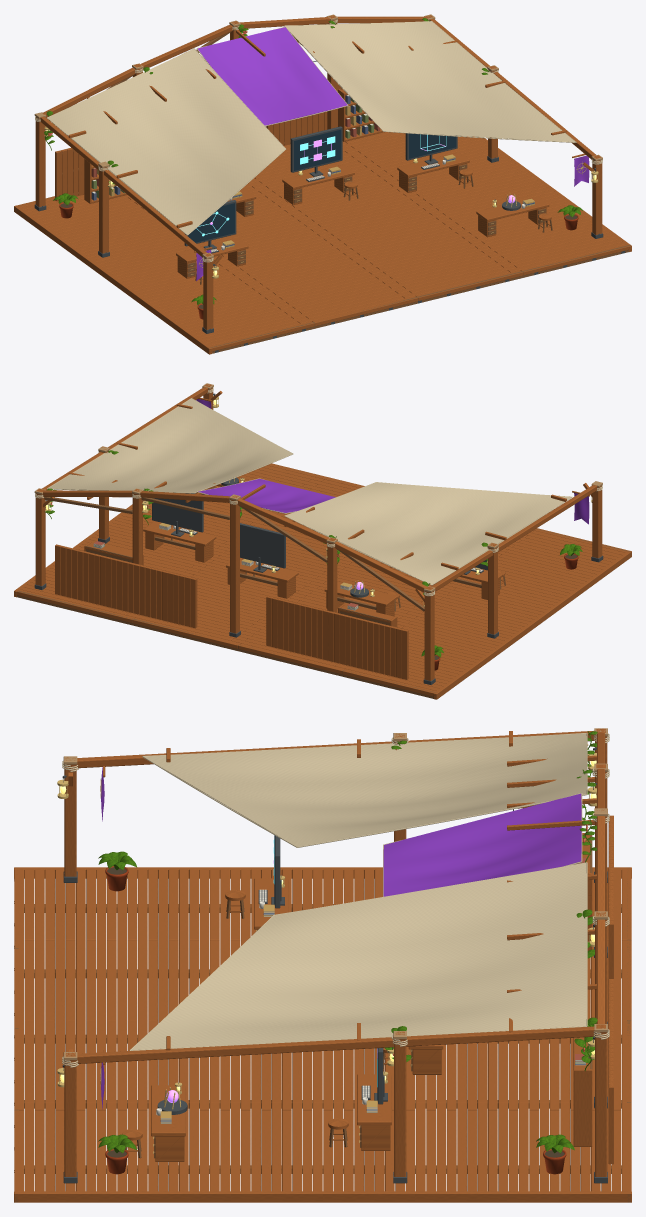
Rendered from workshop-v1-r1-batched.glb.
3 views of the same model, one above another, from view 1: azimuth 30°, elevation 25°; view 2: azimuth 150°, elevation 25°; view 3: azimuth 270°, elevation 25° (orthographic). The views are drawn at different scales.
Visible parts, largest first — view 1: Batched_26_Workshop_PBR_Honey_Timber, Batched_24_Workshop_PBR_Cream_Linen, Batched_23_Workshop_PBR_Violet_Cloth, Batched_14_Workshop_PBR_Honey_Timber, Batched_10_Workshop_PBR_Screen_Glass, Batched_27_Workshop_PBR_Dark_Joinery, Batched_11_Workshop_PBR_Iron, Batched_15_Workshop_PBR_Dark_Joinery, Batched_7_Workshop_PBR_Leaf_Green, Batched_25_Workshop_PBR_Honey_Timber, Batched_4_Workshop_PBR_Violet_Cloth, Batched_20_Workshop_PBR_Book_Ochre (+1 smaller); view 2: Batched_26_Workshop_PBR_Honey_Timber, Batched_24_Workshop_PBR_Cream_Linen, Batched_14_Workshop_PBR_Honey_Timber, Batched_27_Workshop_PBR_Dark_Joinery, Batched_11_Workshop_PBR_Iron, Batched_23_Workshop_PBR_Violet_Cloth, Batched_15_Workshop_PBR_Dark_Joinery, Batched_25_Workshop_PBR_Honey_Timber, Batched_7_Workshop_PBR_Leaf_Green, Batched_28_Workshop_PBR_Cut_Endgrain; view 3: Batched_26_Workshop_PBR_Honey_Timber, Batched_24_Workshop_PBR_Cream_Linen, Batched_23_Workshop_PBR_Violet_Cloth, Batched_14_Workshop_PBR_Honey_Timber, Batched_7_Workshop_PBR_Leaf_Green, Batched_27_Workshop_PBR_Dark_Joinery, Batched_25_Workshop_PBR_Honey_Timber, Batched_11_Workshop_PBR_Iron, Batched_6_Workshop_PBR_Terracotta, Batched_28_Workshop_PBR_Cut_Endgrain, Batched_0_Workshop_PBR_Brass, Batched_5_Workshop_PBR_Cream_Linen (+1 smaller).
Boxes of the visible parts, x1,y1,x2,y2 form: Batched_26_Workshop_PBR_Honey_Timber: (14, 15, 631, 354); Batched_24_Workshop_PBR_Cream_Linen: (47, 21, 576, 235); Batched_23_Workshop_PBR_Violet_Cloth: (197, 27, 347, 125); Batched_14_Workshop_PBR_Honey_Timber: (84, 89, 551, 279); Batched_10_Workshop_PBR_Screen_Glass: (188, 129, 456, 242); Batched_27_Workshop_PBR_Dark_Joinery: (19, 23, 630, 353); Batched_11_Workshop_PBR_Iron: (184, 126, 520, 253); Batched_15_Workshop_PBR_Dark_Joinery: (95, 88, 552, 284); Batched_7_Workshop_PBR_Leaf_Green: (44, 18, 582, 304); Batched_25_Workshop_PBR_Honey_Timber: (68, 30, 566, 228); Batched_4_Workshop_PBR_Violet_Cloth: (196, 155, 589, 280); Batched_20_Workshop_PBR_Book_Ochre: (97, 106, 534, 248); Batched_26_Workshop_PBR_Honey_Timber: (14, 384, 631, 699); Batched_24_Workshop_PBR_Cream_Linen: (47, 398, 572, 585); Batched_14_Workshop_PBR_Honey_Timber: (84, 478, 505, 627); Batched_27_Workshop_PBR_Dark_Joinery: (17, 465, 631, 698); Batched_11_Workshop_PBR_Iron: (152, 477, 487, 597); Batched_23_Workshop_PBR_Violet_Cloth: (198, 478, 335, 512); Batched_15_Workshop_PBR_Dark_Joinery: (85, 486, 505, 625); Batched_25_Workshop_PBR_Honey_Timber: (68, 404, 566, 570); Batched_7_Workshop_PBR_Leaf_Green: (45, 450, 582, 657); Batched_28_Workshop_PBR_Cut_Endgrain: (34, 383, 602, 592); Batched_26_Workshop_PBR_Honey_Timber: (14, 728, 631, 1202); Batched_24_Workshop_PBR_Cream_Linen: (129, 733, 587, 1050); Batched_23_Workshop_PBR_Violet_Cloth: (383, 793, 581, 896); Batched_14_Workshop_PBR_Honey_Timber: (122, 833, 592, 1161); Batched_7_Workshop_PBR_Leaf_Green: (98, 731, 597, 1153); Batched_27_Workshop_PBR_Dark_Joinery: (15, 867, 631, 1202); Batched_25_Workshop_PBR_Honey_Timber: (166, 731, 596, 1050); Batched_11_Workshop_PBR_Iron: (157, 835, 387, 1114); Batched_6_Workshop_PBR_Terracotta: (105, 866, 566, 1174); Batched_28_Workshop_PBR_Cut_Endgrain: (63, 728, 607, 1060); Batched_0_Workshop_PBR_Brass: (57, 744, 596, 1094); Batched_5_Workshop_PBR_Cream_Linen: (62, 733, 609, 1067).
Size of the model in its own units: 30 by 9.9 by 24.
Materials: 21 (4 with a texture image).
